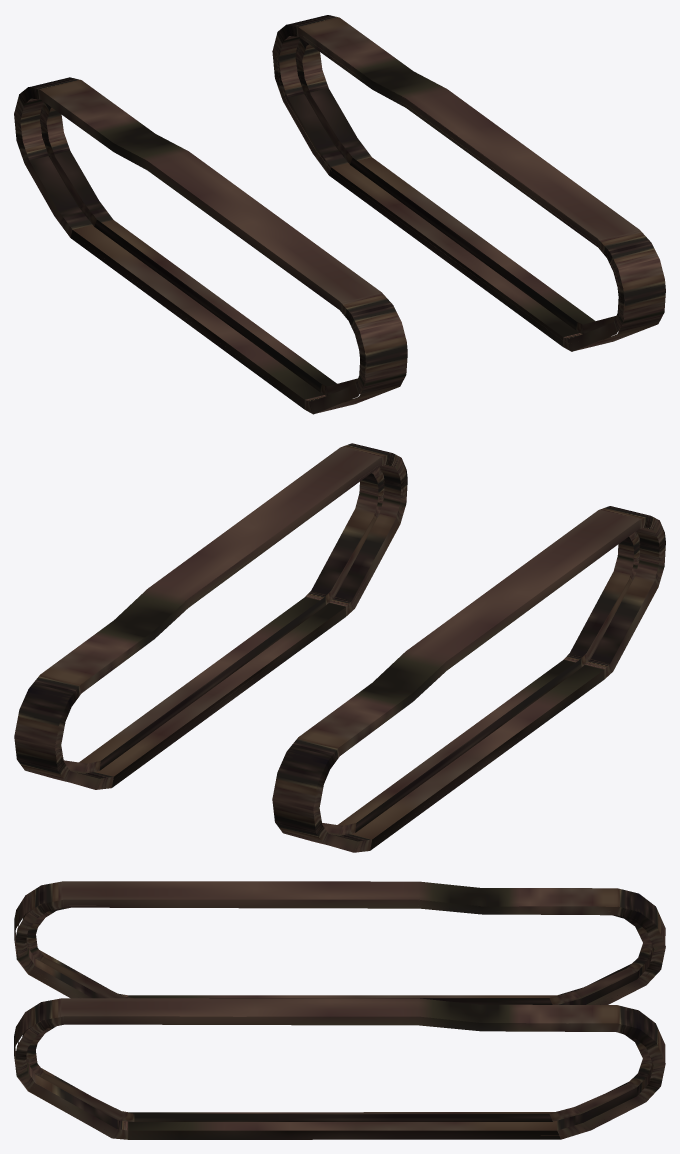
File: pz4_hull_m5.obj
3 views of the same model, one above another, from view 1: azimuth 30°, elevation 25°; view 2: azimuth 150°, elevation 25°; view 3: azimuth 270°, elevation 25° (orthographic). The views are drawn at different scales.
Visible parts, largest first — view 1: pz4_hull_m5; view 2: pz4_hull_m5; view 3: pz4_hull_m5.
Boxes of the visible parts, box(x1,y1,x2,y2) form: pz4_hull_m5: box(14, 15, 665, 414); pz4_hull_m5: box(14, 443, 665, 852); pz4_hull_m5: box(14, 881, 665, 1139).
Size of the model in its own units: 2.77 by 1.19 by 5.65.
1 material, 1 textured.
